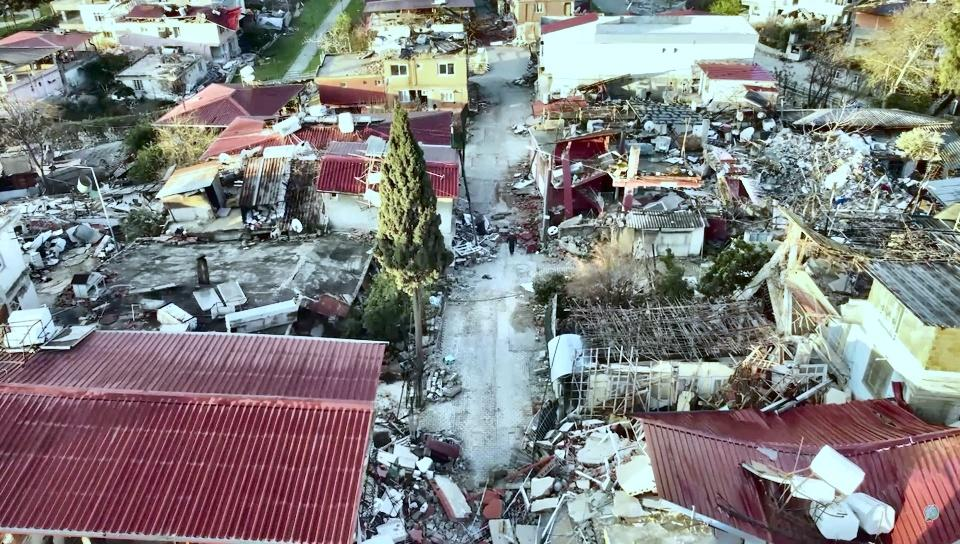kapali: (404, 404, 572, 543), (444, 144, 545, 312)
